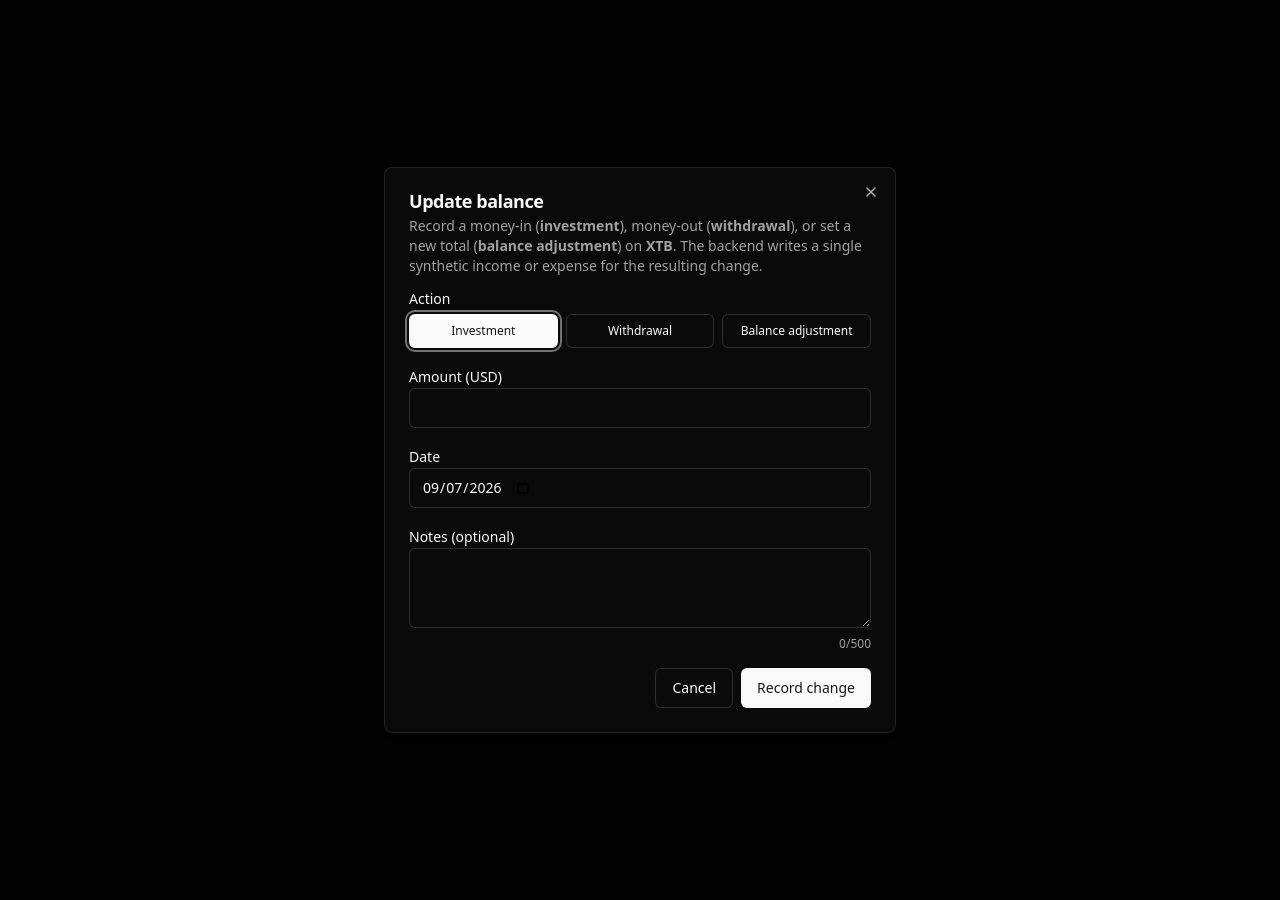
Test: UpdateBalanceDialog › swaps to the New balance field + current-balance preview in Adjustment mode
Click the button with test id "balance-kind-adjustment".
click(797, 331)  # box 722,314 -> 871,348
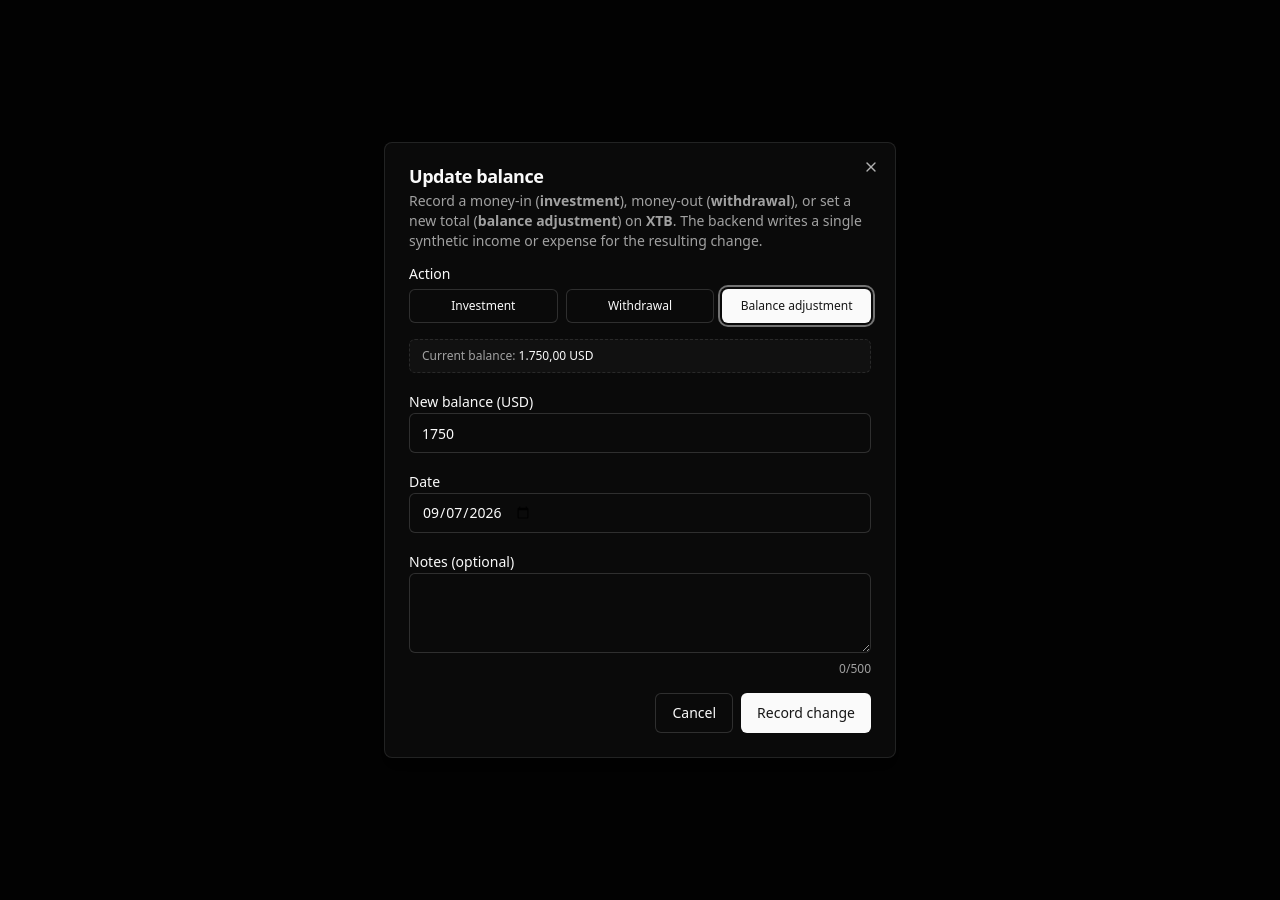
expect the number field with test id "adjust-new-balance-input" is shown: met, box 409,413 -> 871,453
expect the element with test id "update-balance-current" reads "Current balance: 1.750,00 USD": met, box 518,347 -> 593,364
expect the element with test id "update-balance-current" shows "USD": met, box 518,347 -> 593,364
